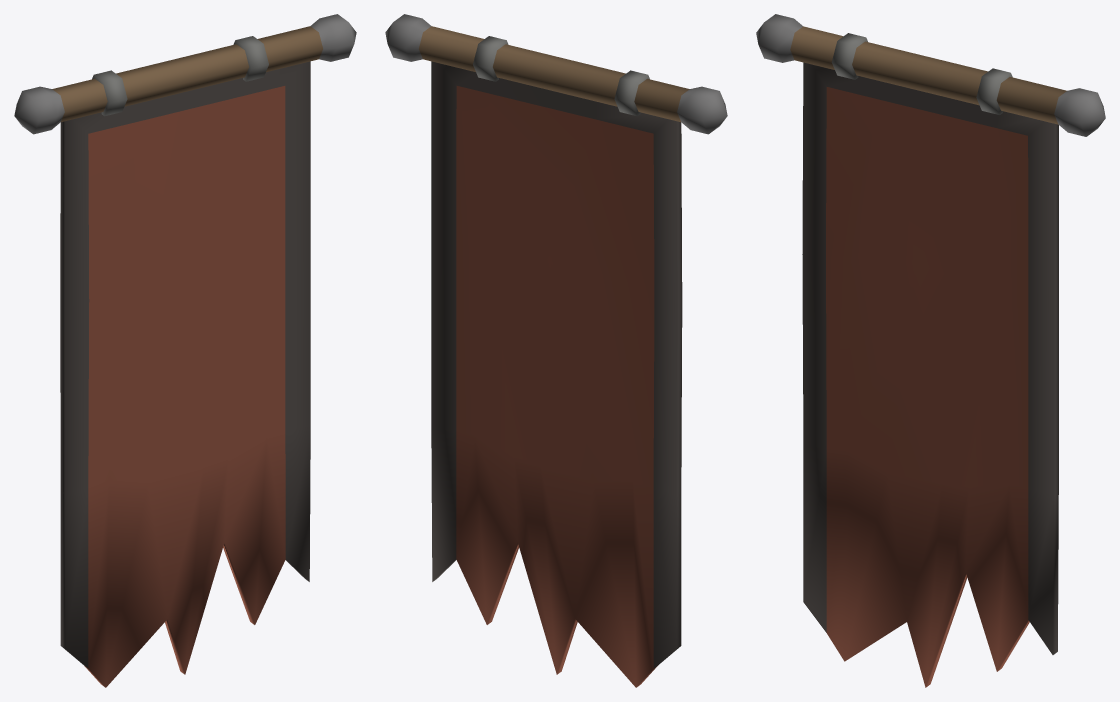
The model's file is rpgpp_lt_banner_01b.glb.
The picture shows the model from 3 angles, left to right: view 1: azimuth 30°, elevation 25°; view 2: azimuth 150°, elevation 25°; view 3: azimuth 330°, elevation 25°; orthographic projection. The views are drawn at different scales.
Visible parts, largest first — view 1: rpgpp_lt_banner_01b; view 2: rpgpp_lt_banner_01b; view 3: rpgpp_lt_banner_01b.
Boxes of the visible parts, x1,y1,x2,y2 form: rpgpp_lt_banner_01b: (14,14,356,687); rpgpp_lt_banner_01b: (385,14,727,687); rpgpp_lt_banner_01b: (756,14,1105,687).
Bounding box in the file's own units: 0.9674 × 1.66 × 0.1101.
Materials: 1 (1 with a texture image).
